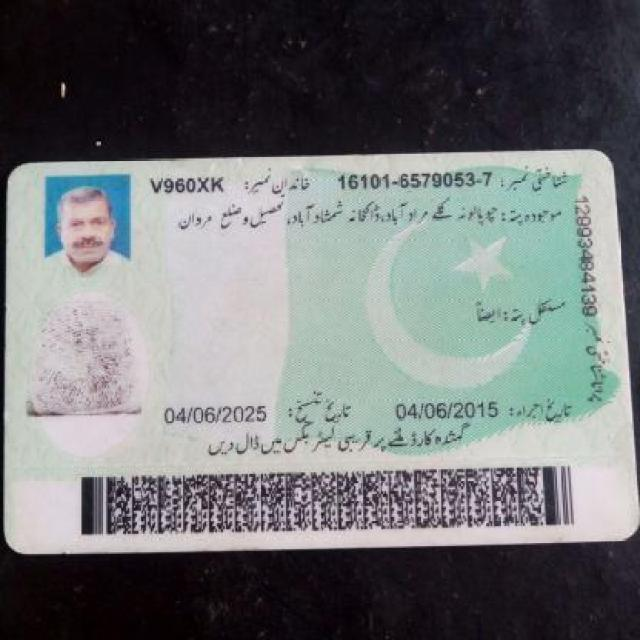Back: (11, 149, 626, 543)
